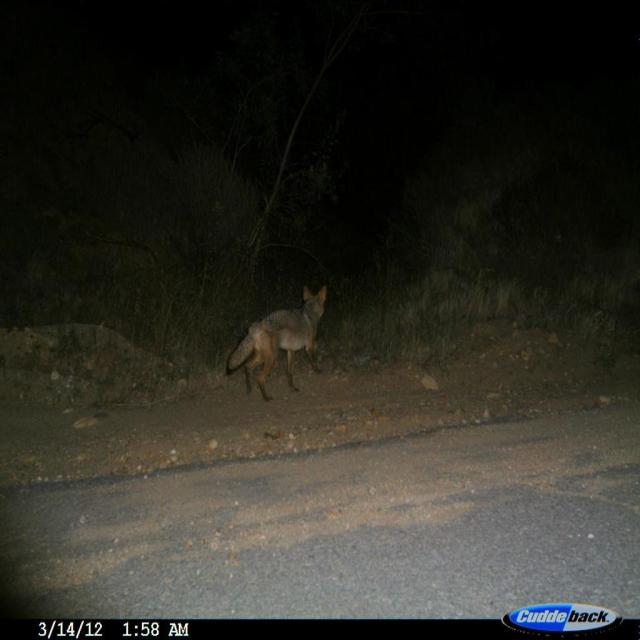coyote: (222, 278, 335, 409)
